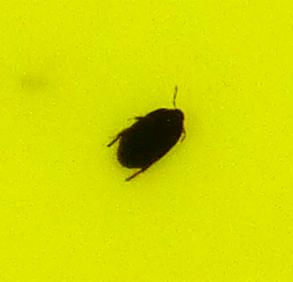Coleoptera: (100, 100, 193, 182)
